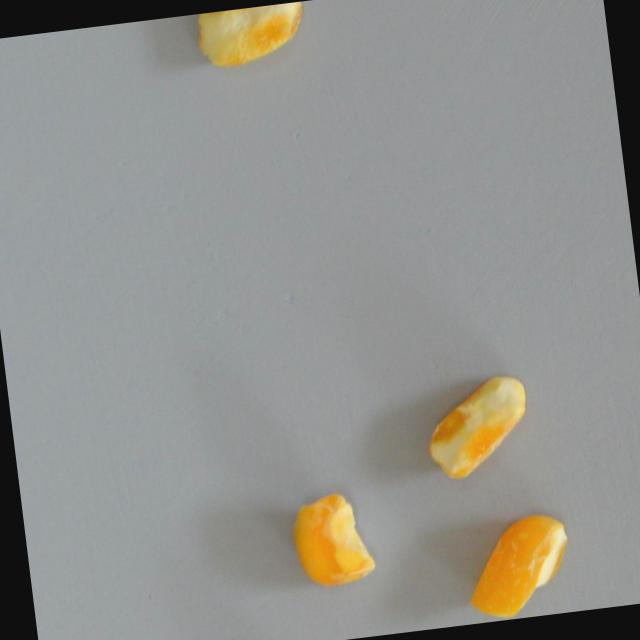pelicula: (413, 357, 542, 487), (267, 482, 397, 611), (451, 500, 580, 625), (188, 0, 312, 84)
